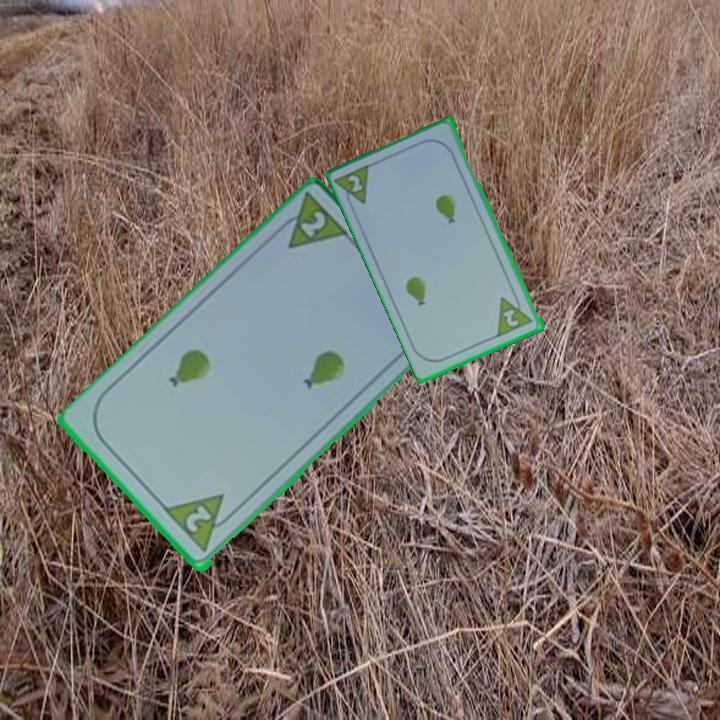2p: (270, 190, 354, 253), (333, 160, 375, 213), (181, 502, 215, 536), (500, 305, 522, 330)
